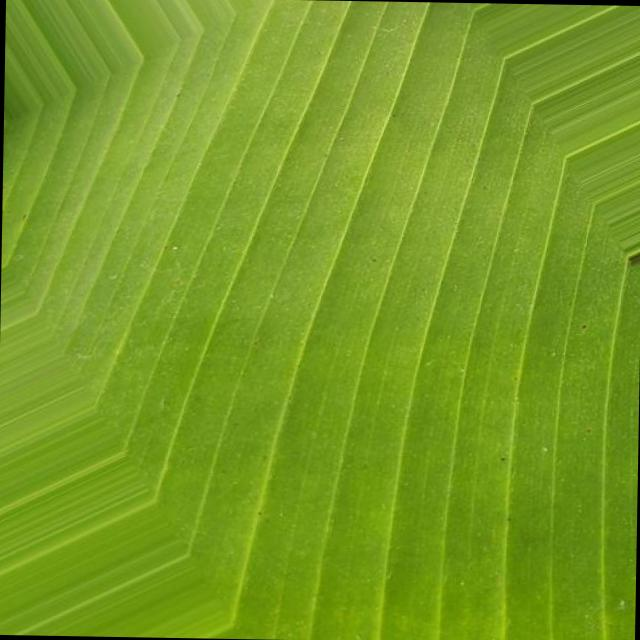Banana_Healthy: (146, 113, 605, 488)
